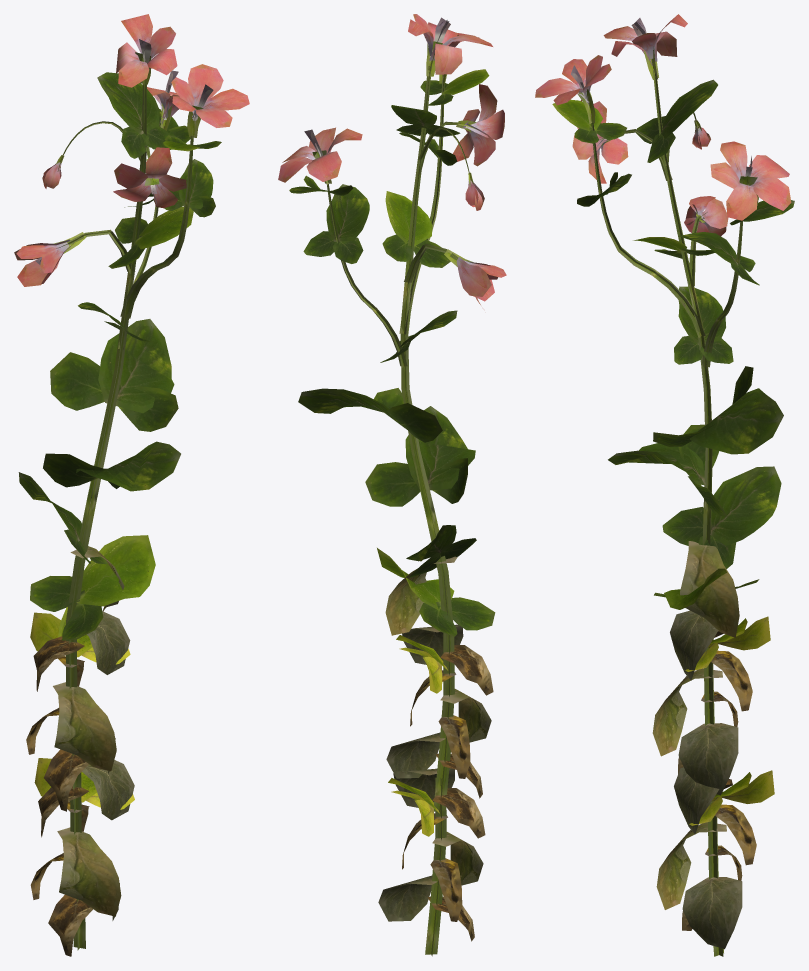
File: Periwinkle_bush_short_peach.glb
3 renders of one model, left to right at view 1: azimuth 30°, elevation 25°; view 2: azimuth 150°, elevation 25°; view 3: azimuth 270°, elevation 25°, orthographic. The views are drawn at different scales.
Visible parts, largest first — view 1: _419c_Var3_LOD1.2; view 2: _419c_Var3_LOD1.2; view 3: _419c_Var3_LOD1.2.
Part boxes in pixels (left/top/right/bottom): _419c_Var3_LOD1.2: left=14, top=14, right=249, bottom=956; _419c_Var3_LOD1.2: left=278, top=14, right=506, bottom=956; _419c_Var3_LOD1.2: left=535, top=14, right=794, bottom=956.
Size of the model in its own units: 0.6129 by 2.59 by 0.6394.
1 material, 1 textured.
